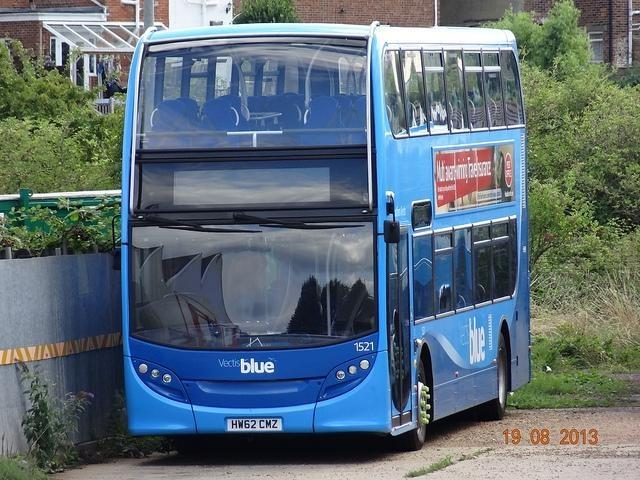bus: (120, 24, 538, 438)
